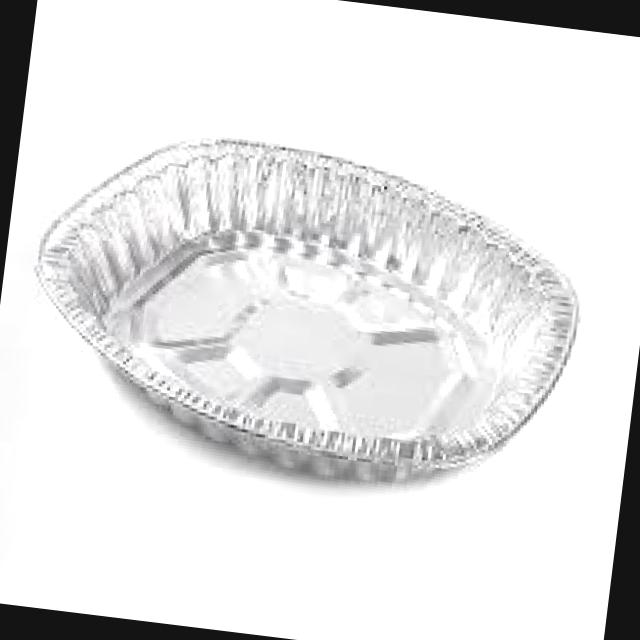kim_loai: (33, 138, 578, 484)
